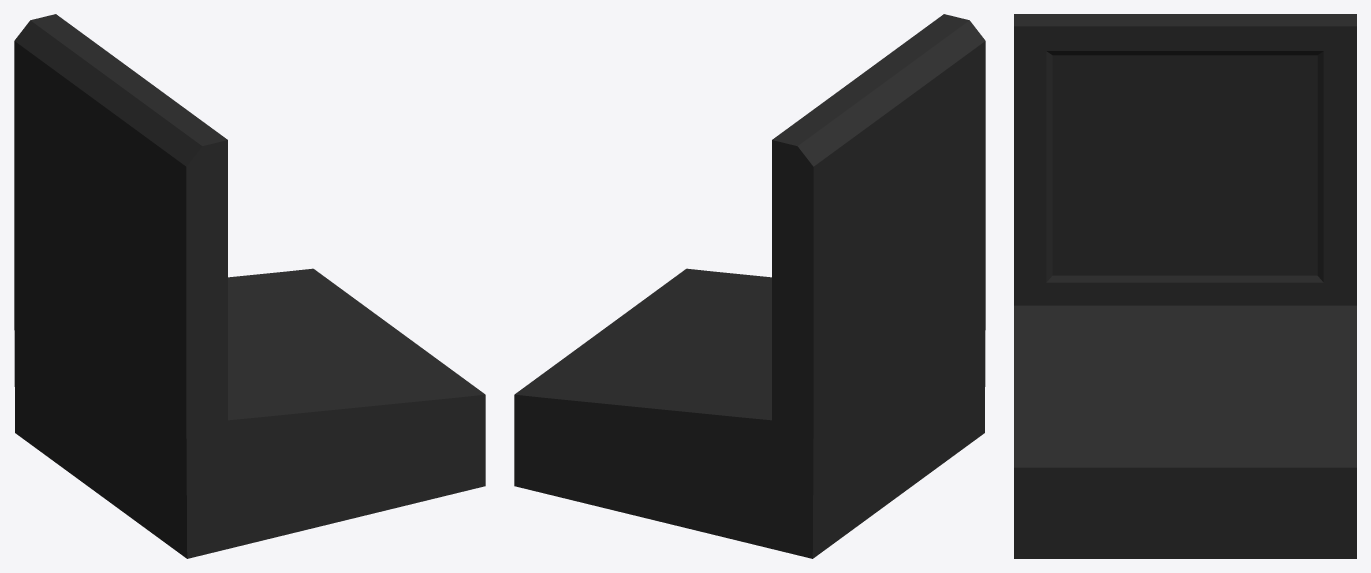
File: computer.fbx
3 renders of one model, left to right at view 1: azimuth 30°, elevation 25°; view 2: azimuth 150°, elevation 25°; view 3: azimuth 270°, elevation 25°, orthographic.
Parts seen in each view (by area): view 1: computer; view 2: computer; view 3: computer.
Boxes of the visible parts, x1,y1,x2,y2 form: computer: (14,14,485,558); computer: (514,14,985,558); computer: (1014,14,1356,558).
Bounding box in the file's own units: 645 × 846 × 647.
Materials: 1 (1 with a texture image).
